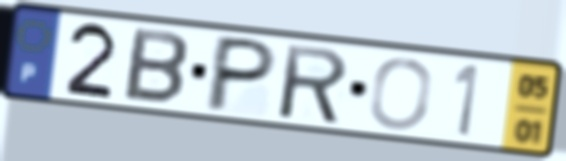1: (451, 63, 483, 141)
2: (63, 20, 119, 102)
B: (119, 25, 192, 108)
O: (366, 55, 436, 132)
P: (200, 32, 282, 115)
R: (278, 41, 351, 127)
